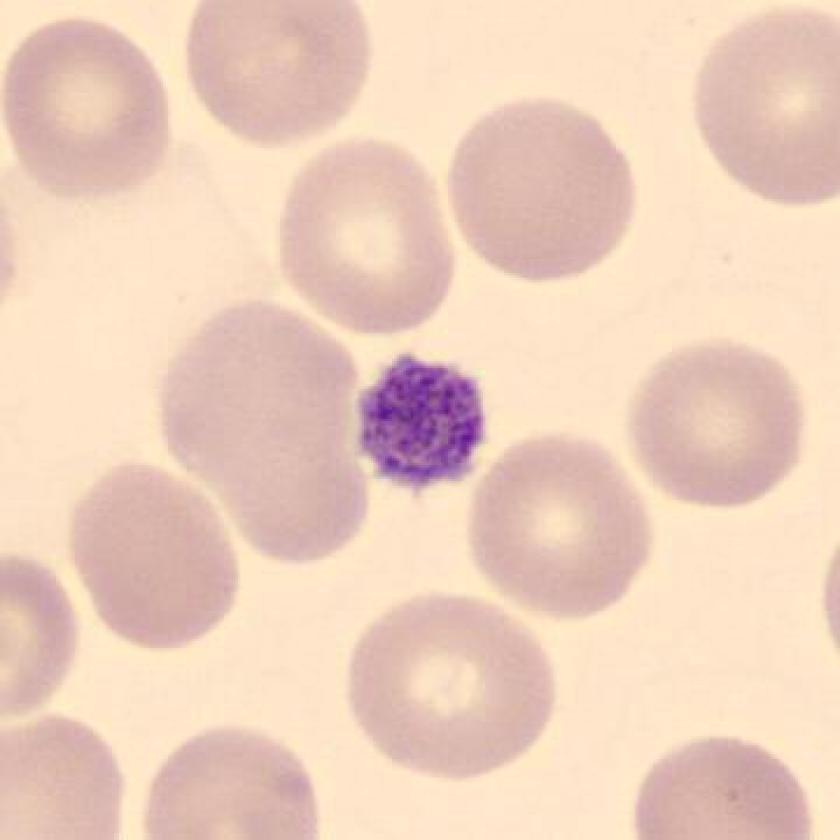platelets: (342, 339, 500, 503)
